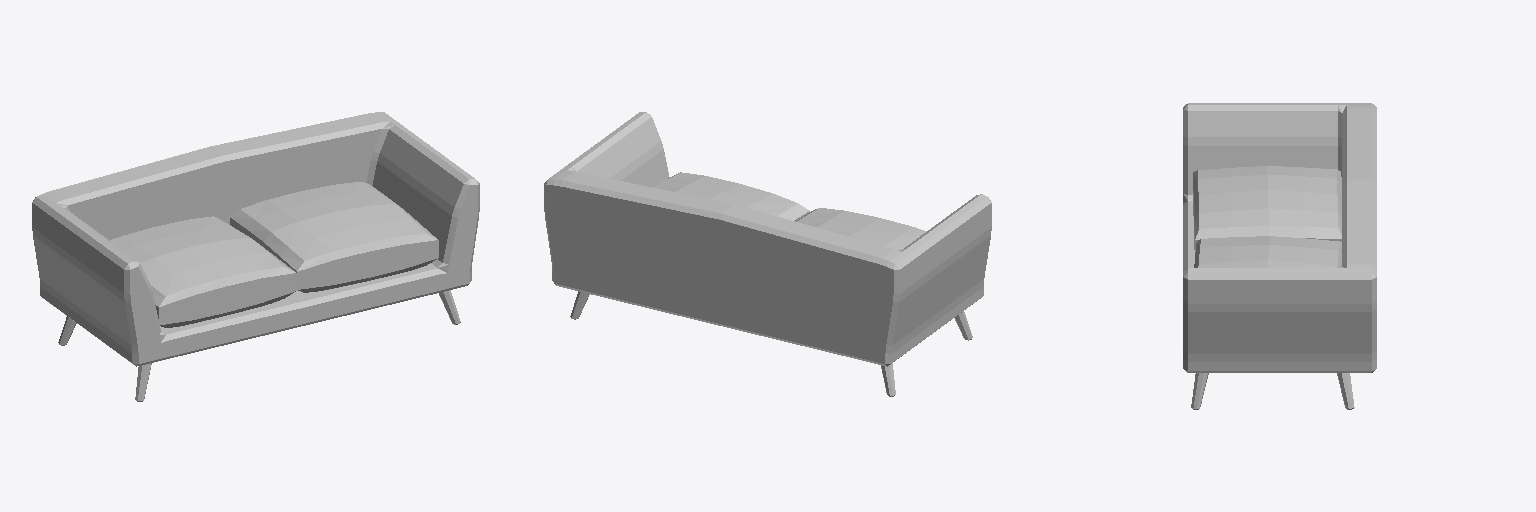
File: Couch_Medium1.obj
3 views of the same model, side by side, from view 1: azimuth 30°, elevation 25°; view 2: azimuth 150°, elevation 25°; view 3: azimuth 270°, elevation 25° (orthographic).
Parts seen in each view (by area): view 1: Couch_Medium1; view 2: Couch_Medium1; view 3: Couch_Medium1.
Boxes of the visible parts, <box> form: Couch_Medium1: <box>32,112,479,401</box>; Couch_Medium1: <box>544,112,991,396</box>; Couch_Medium1: <box>1183,103,1376,409</box>.
Size of the model in its own units: 4.69 by 1.91 by 2.2.